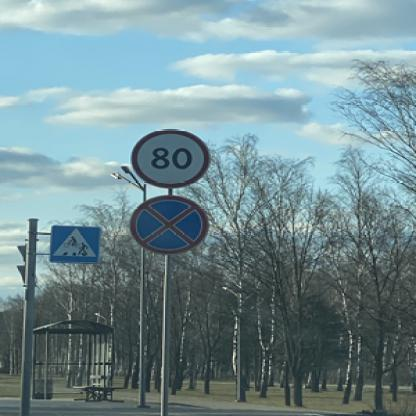crosswalk: (47, 224, 101, 264)
speedlimit: (129, 128, 208, 185)
